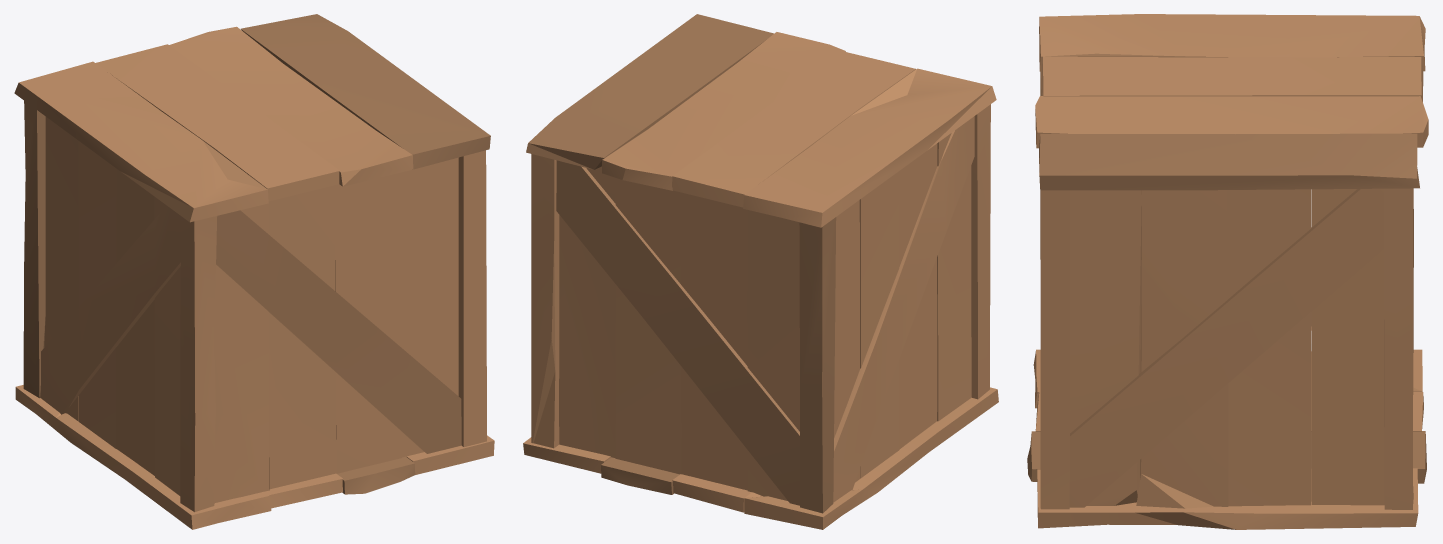
Rendered from boxShabby.fbx.
The picture shows the model from 3 angles, left to right: view 1: azimuth 30°, elevation 25°; view 2: azimuth 150°, elevation 25°; view 3: azimuth 270°, elevation 25°; orthographic projection. The views are drawn at different scales.
Visible parts, largest first — view 1: boxShabby; view 2: boxShabby; view 3: boxShabby.
Boxes of the visible parts, left/top/right/bottom form: boxShabby: left=14, top=14, right=494, bottom=529; boxShabby: left=523, top=14, right=998, bottom=529; boxShabby: left=1027, top=14, right=1428, bottom=529.
Bounding box in the file's own units: 98.1 × 100 × 101.
Materials: 1 (1 with a texture image).
